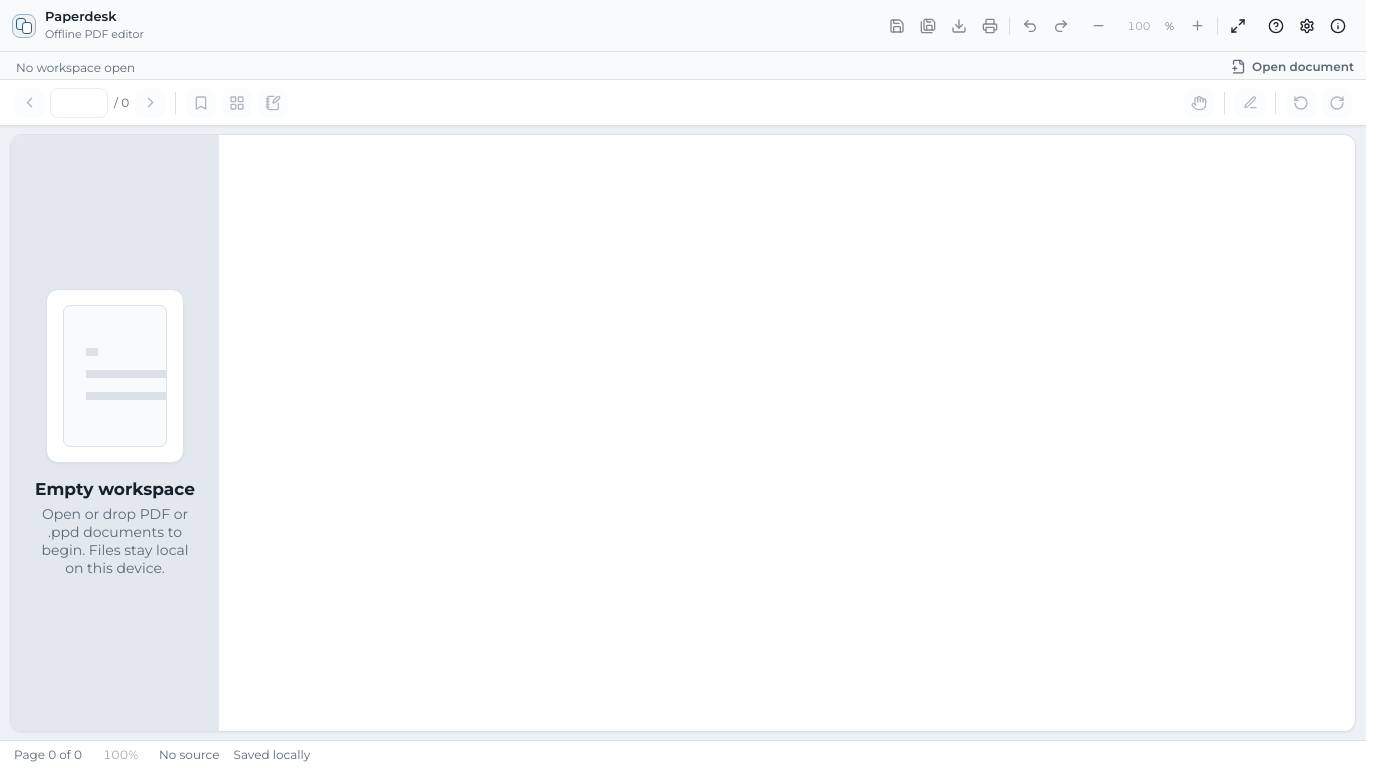
Scenario: AppShell PDF opening › disables printing without a document and guards duplicate toolbar/shortcut requests
This screenshot has width=1378, height=768.
Expected: the button named "Print…" is disabled, [975,11,1004,40]
Click the button "Open document" at (1293, 66), box [1219,52,1366,80]
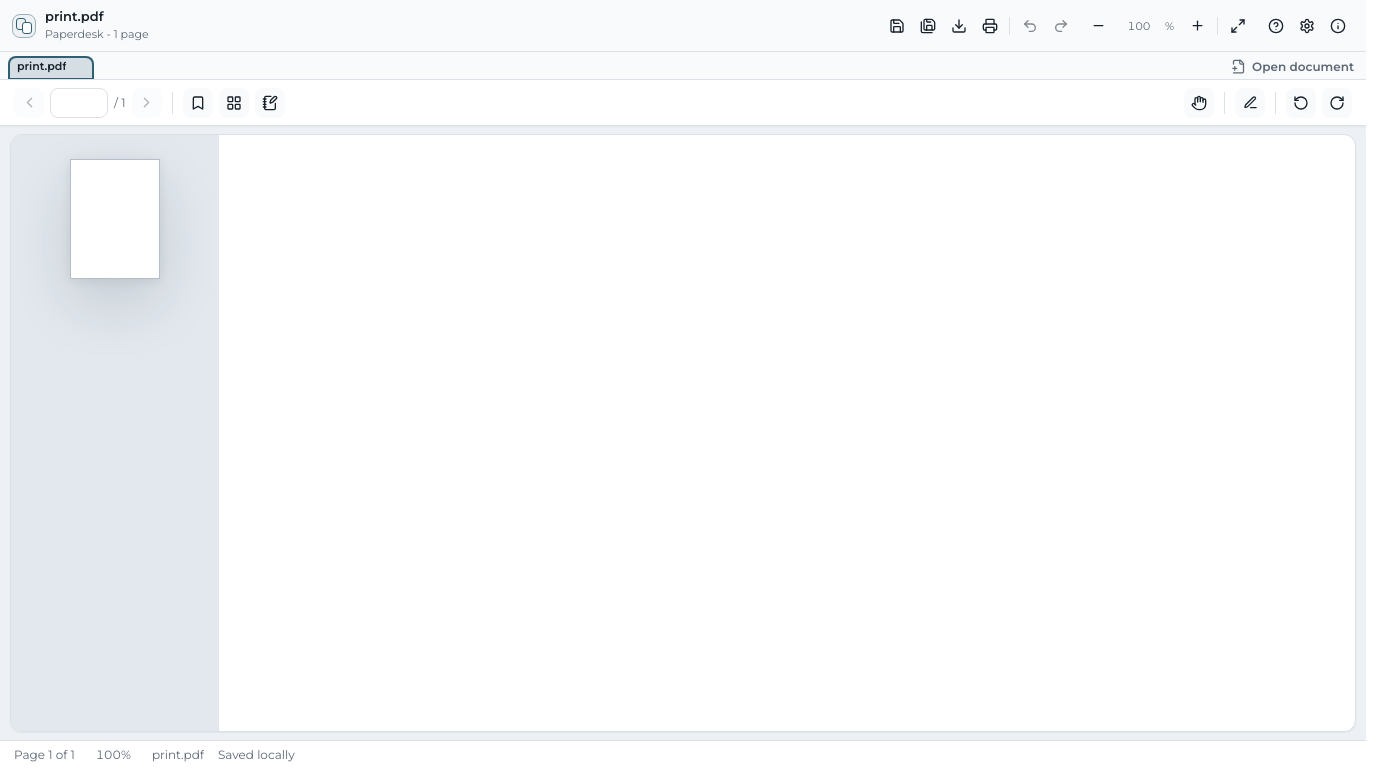
Now the tab "print.pdf" is shown, box [8,56,70,80]
Click the button named "Print…" at (990, 26), box [975,11,1004,40]
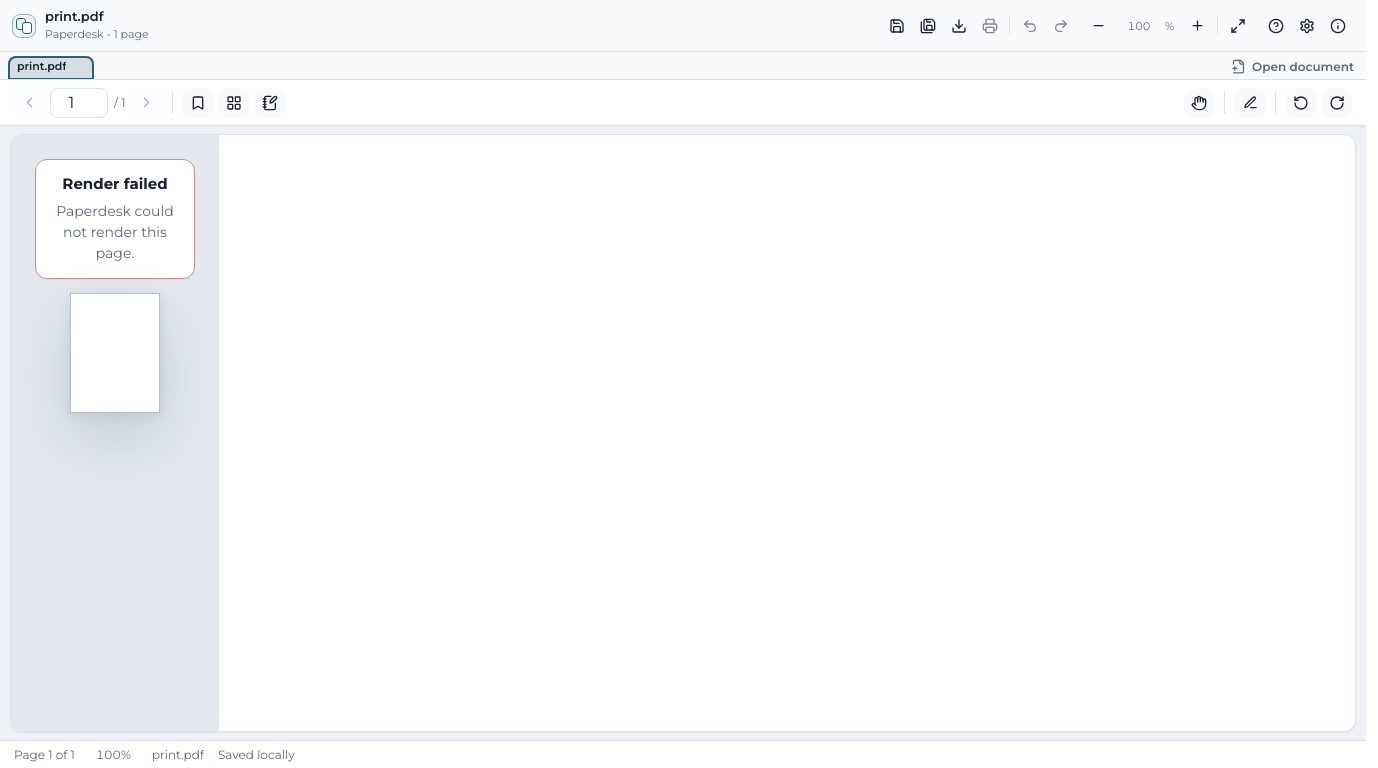
Press p
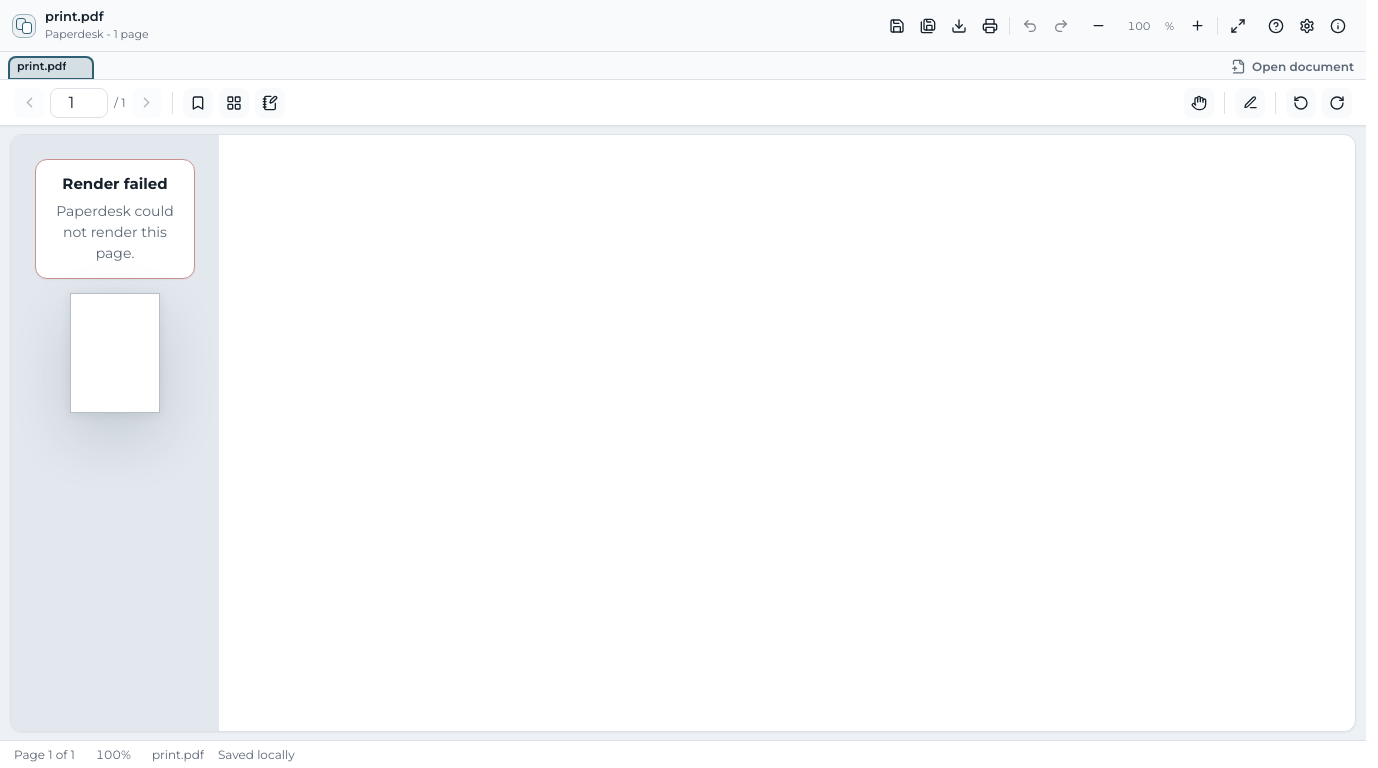
Now the heading "print.pdf" is shown, box [45,8,103,24]
Now the button named "Print…" is enabled, box [975,11,1004,40]
